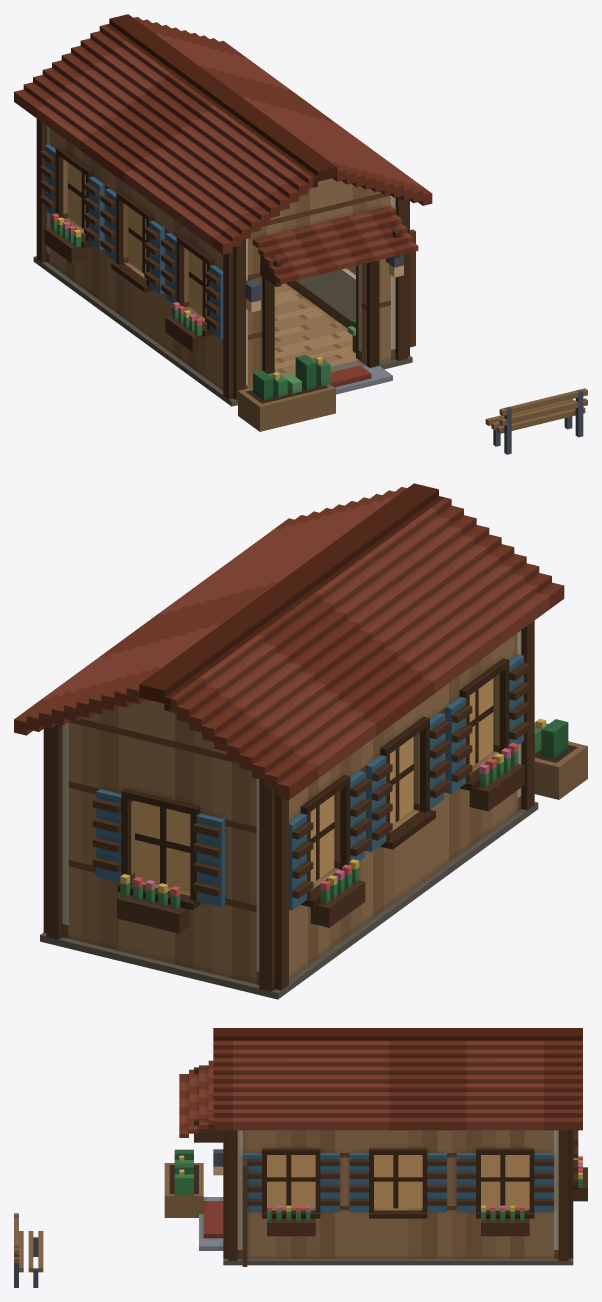
3 renders of one model, top to bottom at view 1: azimuth 30°, elevation 25°; view 2: azimuth 150°, elevation 25°; view 3: azimuth 270°, elevation 25°, orthographic. The views are drawn at different scales.
Visible parts, largest first — view 1: CutRoof, Base, CutNX, CutPZ, CutNZ; view 2: CutRoof, CutNZ, Base, CutNX, CutPZ; view 3: CutRoof, CutPX, Base, CutPZ, CutNZ.
Part boxes in pixels (x1,y1,x2,y2): CutRoof: [14, 14, 432, 254]; Base: [33, 214, 587, 454]; CutNX: [40, 128, 223, 345]; CutPZ: [223, 196, 418, 355]; CutNZ: [36, 119, 49, 218]; CutRoof: [14, 483, 564, 799]; CutNZ: [43, 722, 288, 932]; Base: [40, 718, 587, 999]; CutNX: [289, 633, 529, 919]; CutPZ: [517, 620, 534, 751]; CutRoof: [213, 1028, 582, 1130]; CutPX: [242, 1130, 553, 1227]; Base: [14, 1149, 587, 1287]; CutPZ: [179, 1060, 247, 1227]; CutNZ: [554, 1130, 587, 1221].
Size of the model in its own units: 5.3 by 4.4 by 11.8.
